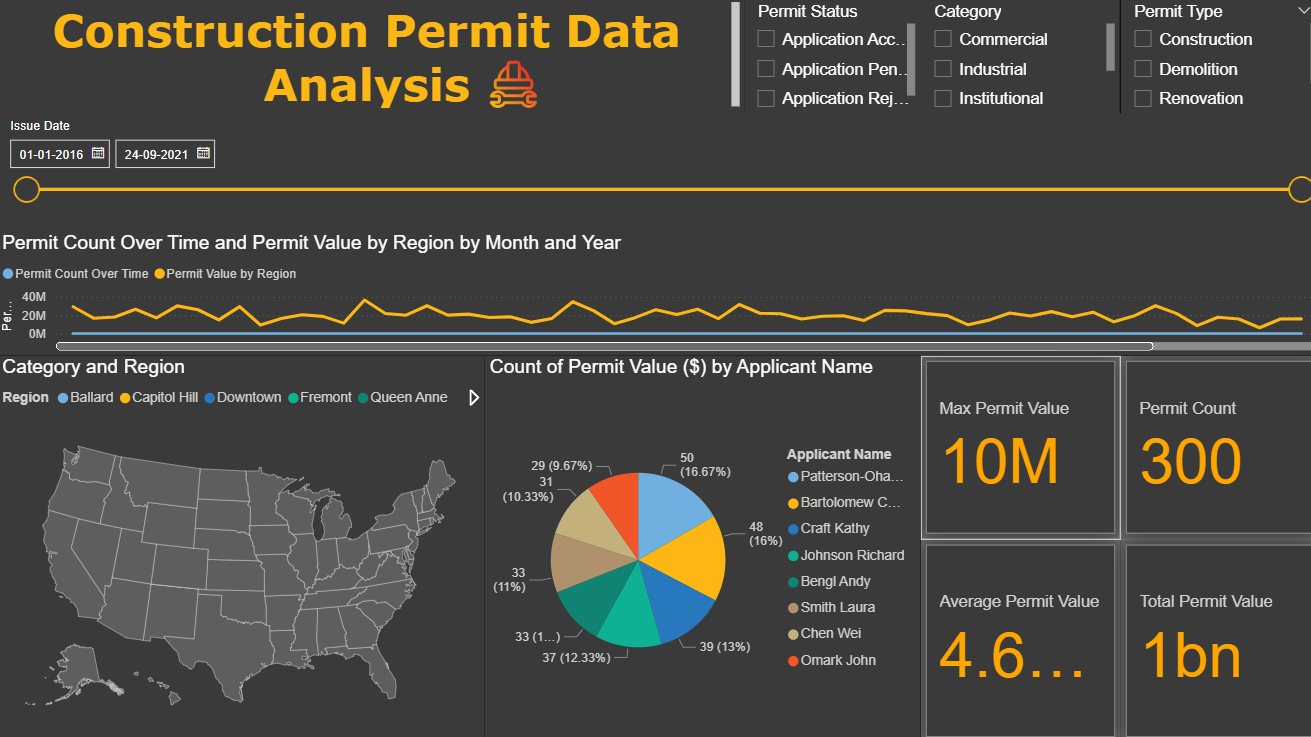

The page's visual inventory and layout, read from the dashboard file:
{"tool":"powerbi","page":{"name":"Page 1","canvas":[1280,720],"ordinal":0},"visuals":[{"type":"cardVisual","fields":{"Data":["Sheet1.Permit Count"]},"box":[1084.6,346.2,195.4,177.3],"z":0},{"type":"cardVisual","fields":{"Data":["Sheet1.Total Permit Value"]},"box":[1084.6,523.6,195.4,196.6],"z":1000},{"type":"cardVisual","fields":{"Data":["Sheet1.Average Permit Value"]},"box":[891.6,523.6,193,196.6],"z":2000},{"type":"cardVisual","fields":{"Data":["Sheet1.Max Permit Value"]},"box":[891.6,346.2,193,177.3],"z":3000},{"type":"shapeMap","fields":{"Category":["Sheet1.Category"],"Series":["Sheet1.Region"]},"box":[0,346.2,470.5,374],"z":4000},{"type":"lineChart","fields":{"Category":["Sheet1.Issue Date.Variation.Date Hierarchy.Month","Sheet1.Issue Date.Variation.Date Hierarchy.Year"],"Y":["Sheet1.Permit Count Over Time","Sheet1.Permit Value by Region"]},"box":[0,226.8,1280,119.4],"z":5000},{"type":"slicer","fields":{"Values":["Sheet1.Issue Date"]},"box":[0,112.2,1280,114.6],"z":6000},{"type":"textbox","box":[0,0,721.8,112.5],"z":7000},{"type":"slicer","fields":{"Values":["Sheet1.Permit Status"]},"box":[721.8,0,170.2,112.5],"z":8000},{"type":"slicer","fields":{"Values":["Sheet1.Category"]},"box":[891.9,0,192.1,112.5],"z":9000},{"type":"slicer","fields":{"Values":["Sheet1.Permit Type"]},"box":[1084.1,0,196.2,112.5],"z":10000},{"type":"pieChart","fields":{"Y":["Sheet1.Permit Value ($)"],"Category":["Sheet1.Applicant Name"]},"box":[470.5,346.2,421,374],"z":11000},{"type":"image","box":[459.7,56.7,77.2,55.5],"z":12000}]}

Visuals, with their boxes in screenshot pixels (x1, y1, x2, y2), scaled from the page's 1280x720 canvas onto the 1311x737 screenshot:
cardVisual - Sheet1.Permit Count: bbox=[1111, 354, 1310, 536]
cardVisual - Sheet1.Total Permit Value: bbox=[1111, 536, 1310, 736]
cardVisual - Sheet1.Average Permit Value: bbox=[913, 536, 1111, 736]
cardVisual - Sheet1.Max Permit Value: bbox=[913, 354, 1111, 536]
shapeMap - Sheet1.Category x Sheet1.Region: bbox=[0, 354, 482, 736]
lineChart - Sheet1.Issue Date.Variation.Date Hierarchy.Month x Sheet1.Issue Date.Variation.Date Hierarchy.Year: bbox=[0, 232, 1310, 354]
slicer - Sheet1.Issue Date: bbox=[0, 115, 1310, 232]
textbox: bbox=[0, 0, 739, 115]
slicer - Sheet1.Permit Status: bbox=[739, 0, 914, 115]
slicer - Sheet1.Category: bbox=[914, 0, 1110, 115]
slicer - Sheet1.Permit Type: bbox=[1110, 0, 1310, 115]
pieChart - Sheet1.Permit Value ($) x Sheet1.Applicant Name: bbox=[482, 354, 913, 736]
image: bbox=[471, 58, 550, 115]
